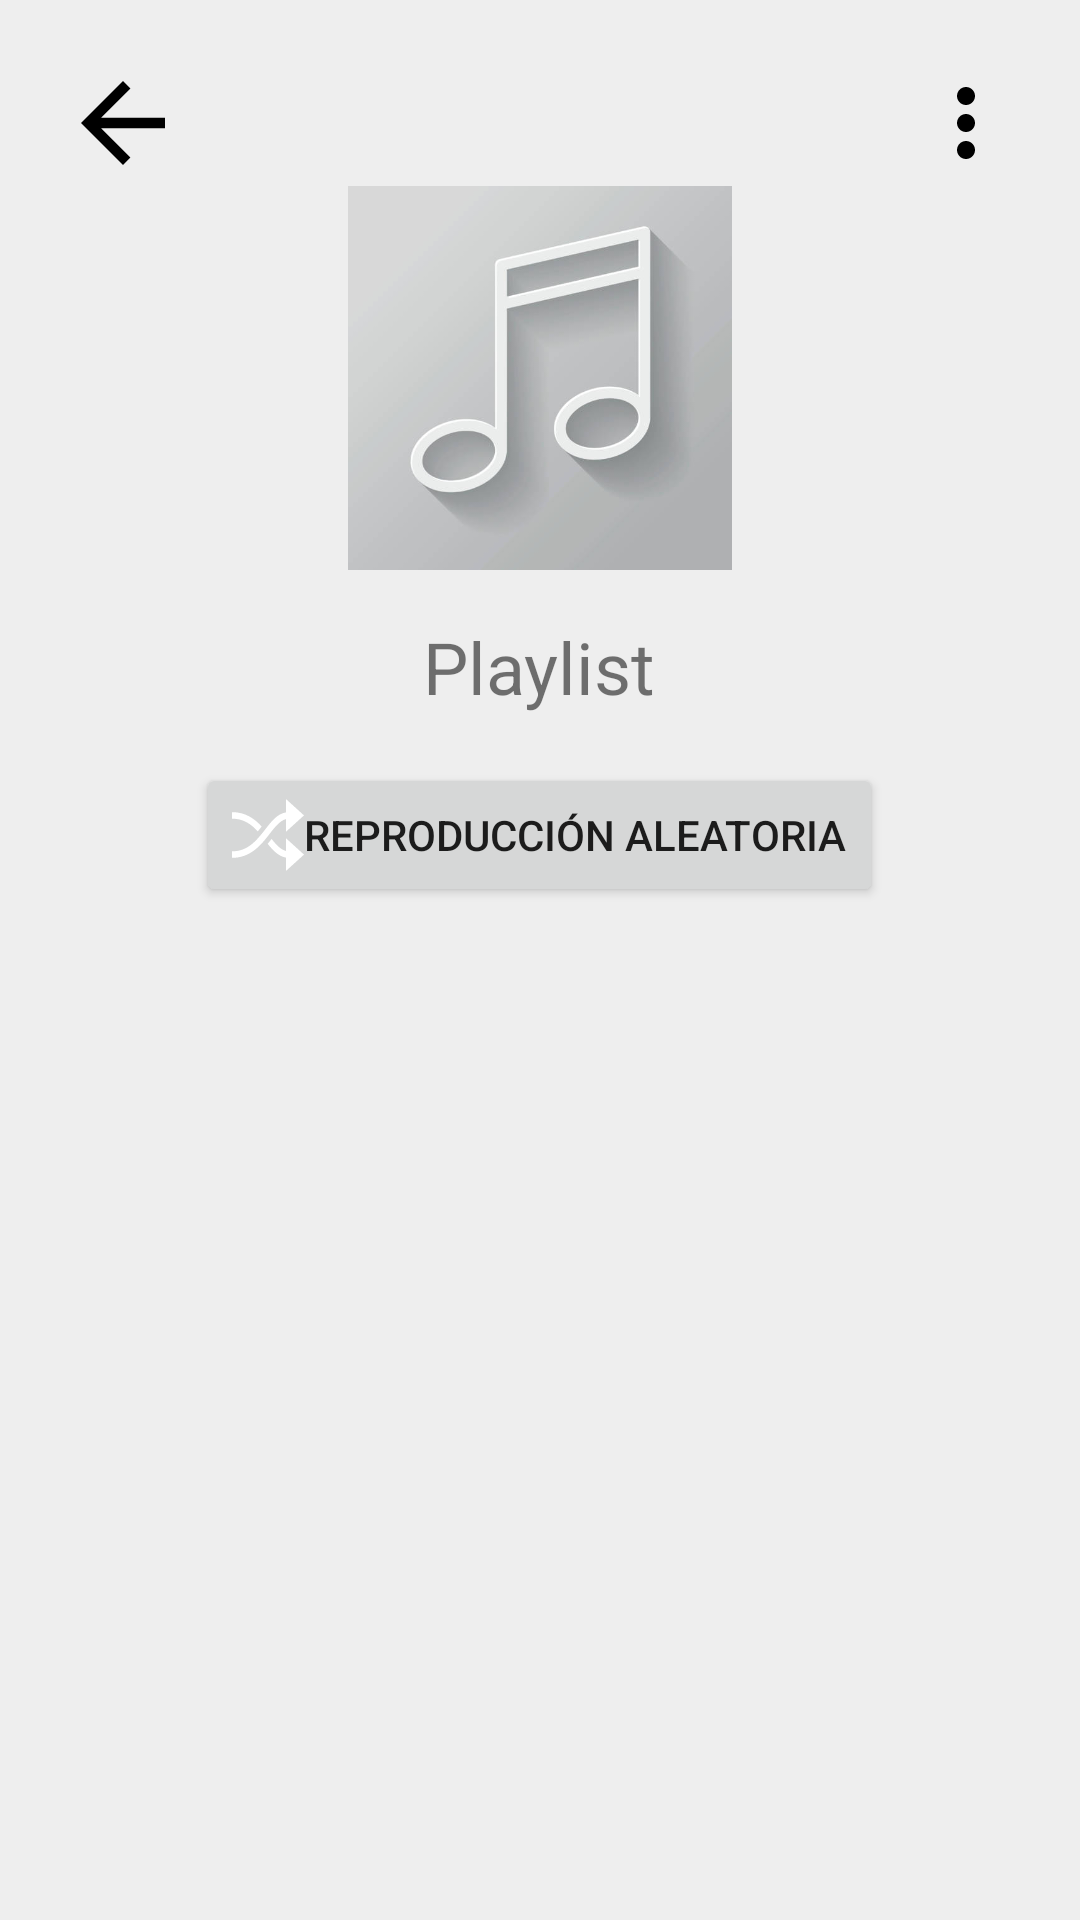

Locate icon controls on the screen. Image size 1080px x 1920px, boxes as (x1, y1, x2, y2).
arrow back: (81, 81, 165, 165)
more vert: (957, 87, 975, 159)
